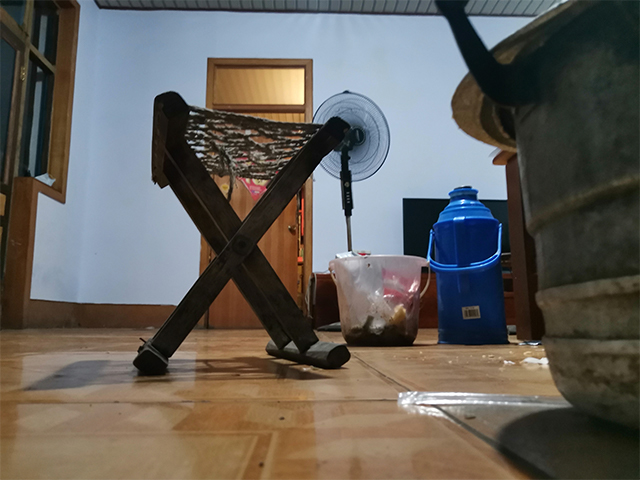stool: (131, 88, 354, 379)
trashcan: (325, 251, 431, 347)
